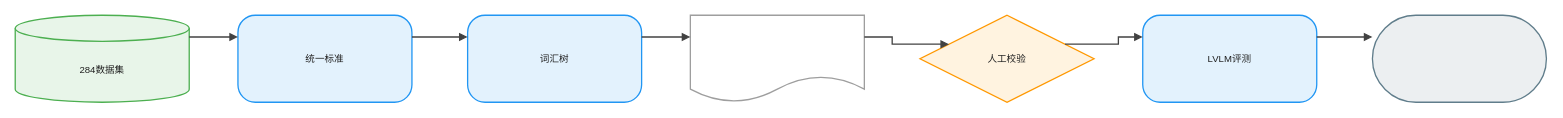
The diagram is 1563 pixels wide and 118 high, and some of its shapes have lost their labels. The shapes that lost their labels are listed below. From the top down, each one's box as (x1, y1, x2, y2) in pixels, then its label:
(689, 14, 865, 102): VQA问答
(1371, 14, 1547, 102): 准确率
